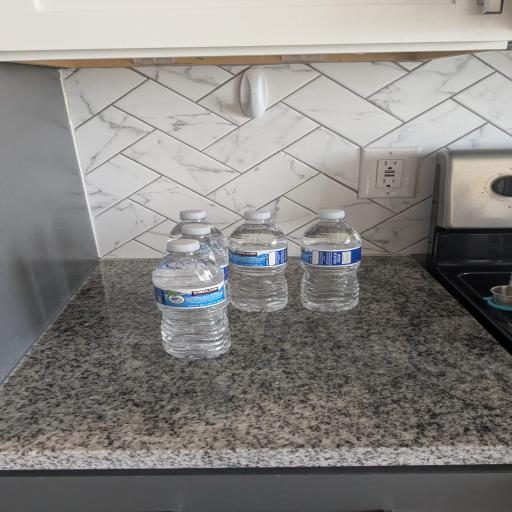waterbottle: (153, 239, 230, 358), (301, 210, 361, 311), (228, 211, 287, 311), (182, 224, 230, 302), (168, 210, 226, 246)
